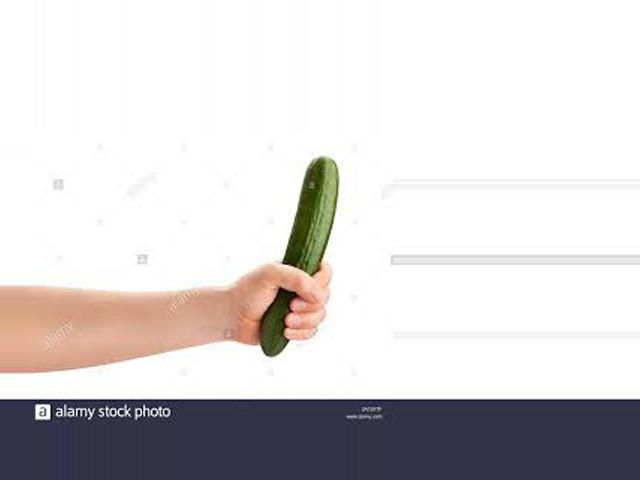cucumber: (262, 157, 340, 356)
